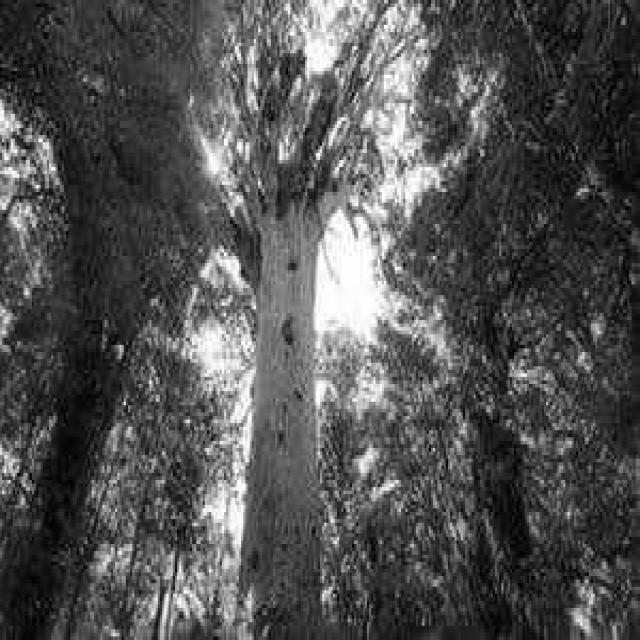Tree: (200, 0, 421, 634)
